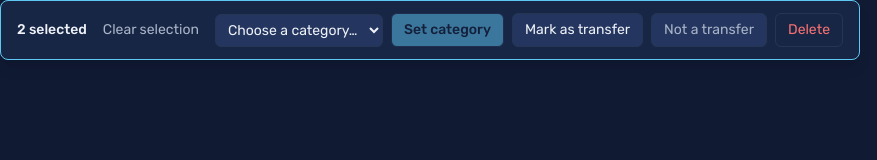
BulkActionBar › sets one category on every selected row, then clears the selection and refreshes
Expected: the text "2 selected" is shown, [17, 20, 87, 40]
Expected: the button "Set category" is disabled, [391, 13, 504, 47]
Select "Dining" in the dropdown named "category for the selected" at coordinates (299, 30), box [215, 14, 383, 46]
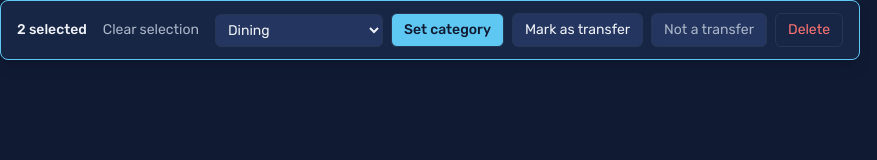
Click the button "Set category" at coordinates (447, 30), box [391, 13, 504, 47]
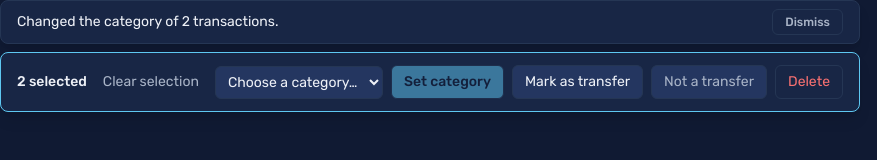
Now the text "Changed the category of 2 transactions." is shown, box [17, 12, 278, 32]
